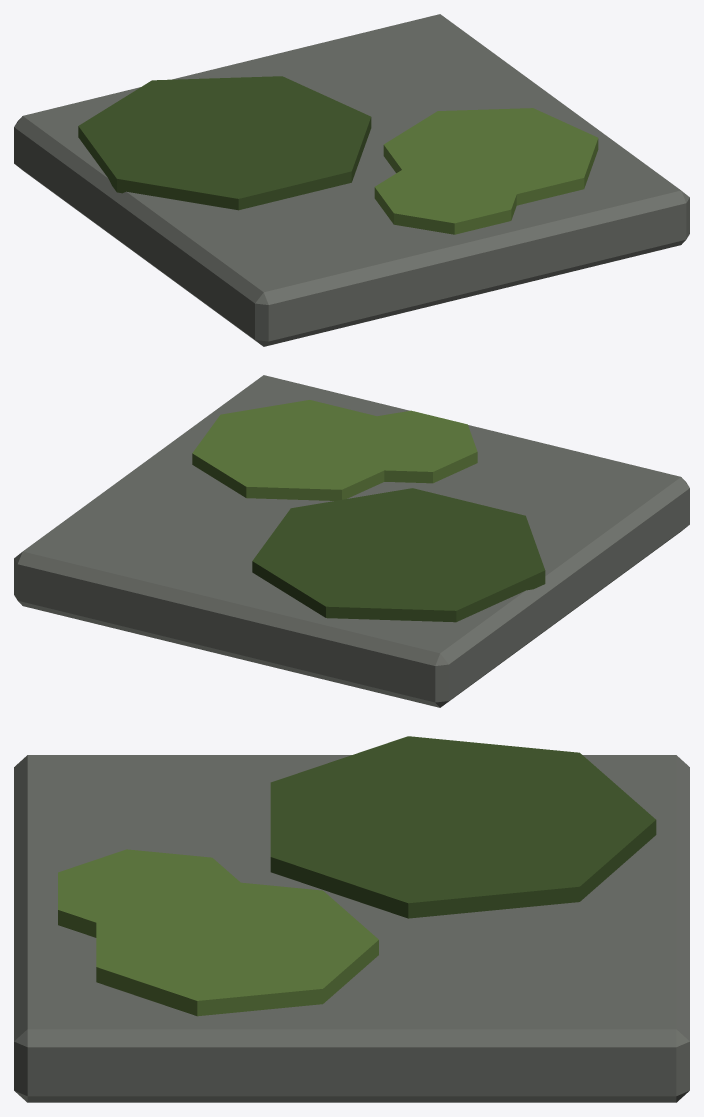
File: kit_floor_moss.glb
3 renders of one model, top to bottom at view 1: azimuth 30°, elevation 25°; view 2: azimuth 150°, elevation 25°; view 3: azimuth 270°, elevation 25°, orthographic. The views are drawn at different scales.
Visible parts, largest first — view 1: slab, moss0, moss1, moss2; view 2: slab, moss0, moss1, moss2; view 3: slab, moss0, moss1, moss2.
Part boxes in pixels (<box>): slab: <box>14,14,689,346</box>; moss0: <box>78,76,371,210</box>; moss1: <box>383,108,598,205</box>; moss2: <box>374,164,520,234</box>; slab: <box>14,375,689,707</box>; moss0: <box>252,488,545,622</box>; moss1: <box>192,400,406,500</box>; moss2: <box>331,410,477,483</box>; slab: <box>14,755,689,1102</box>; moss0: <box>270,736,656,918</box>; moss1: <box>96,878,378,1016</box>; moss2: <box>58,849,240,937</box>.
Size of the model in its own units: 1 by 0.145 by 1.
